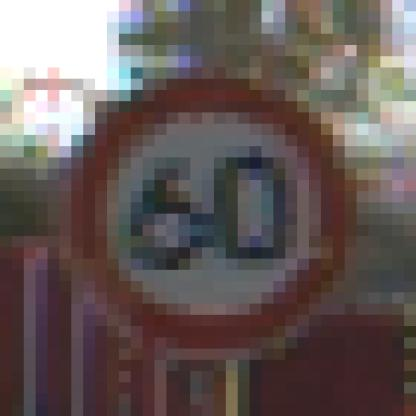Speed Limit 60: (63, 79, 348, 350)
